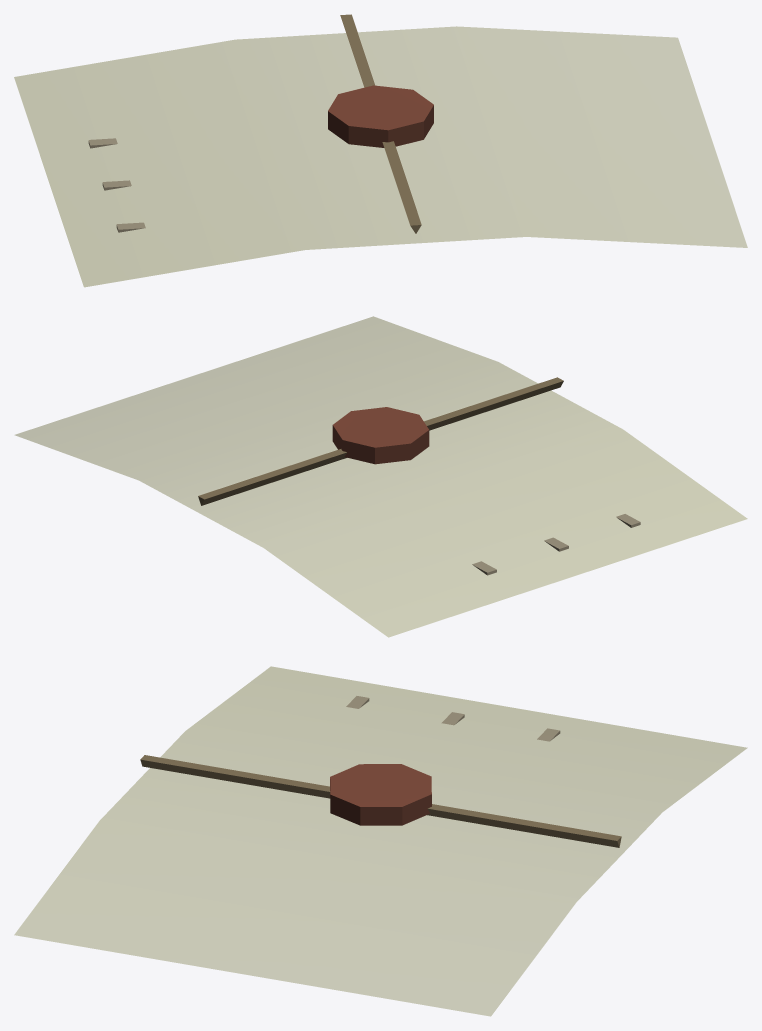
Rendered from ph_item_register_extract.glb.
3 renders of one model, top to bottom at view 1: azimuth 30°, elevation 25°; view 2: azimuth 150°, elevation 25°; view 3: azimuth 270°, elevation 25°, orthographic. The views are drawn at different scales.
Parts seen in each view (by area): view 1: ph_item_register_extract; view 2: ph_item_register_extract; view 3: ph_item_register_extract.
Part boxes in pixels (x1=…): ph_item_register_extract: x1=14, y1=14, x2=747, y2=287; ph_item_register_extract: x1=14, y1=316, x2=747, y2=637; ph_item_register_extract: x1=14, y1=666, x2=747, y2=1016.
Size of the model in its own units: 0.2416 by 0.018 by 0.214.
